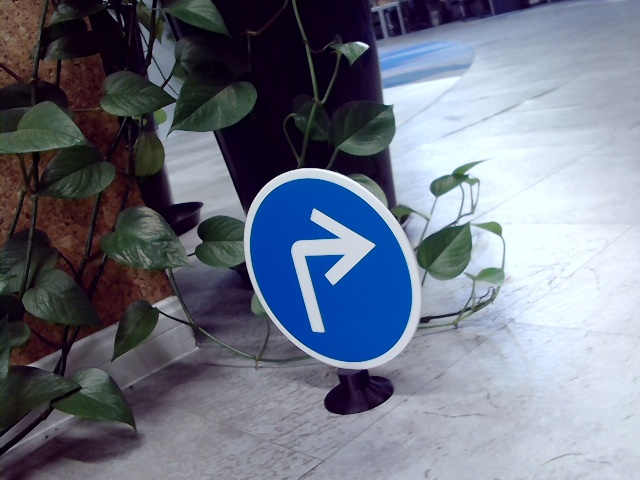turn_right: (276, 206, 385, 336)
